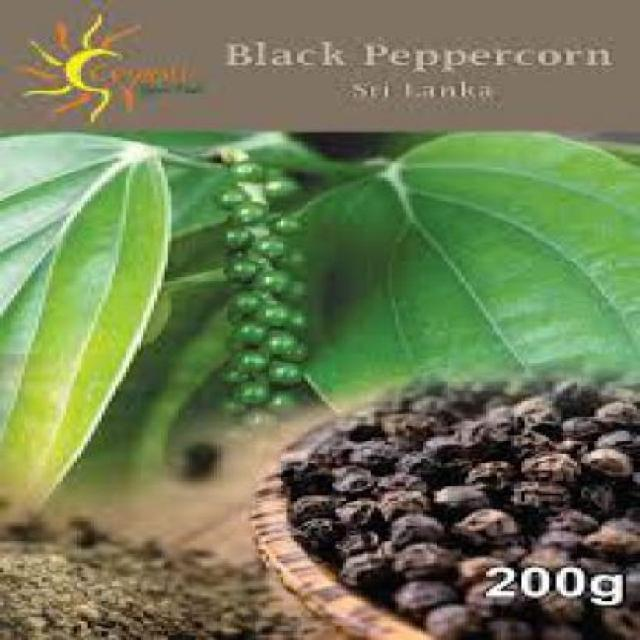UNRIPE: (210, 123, 319, 414)
